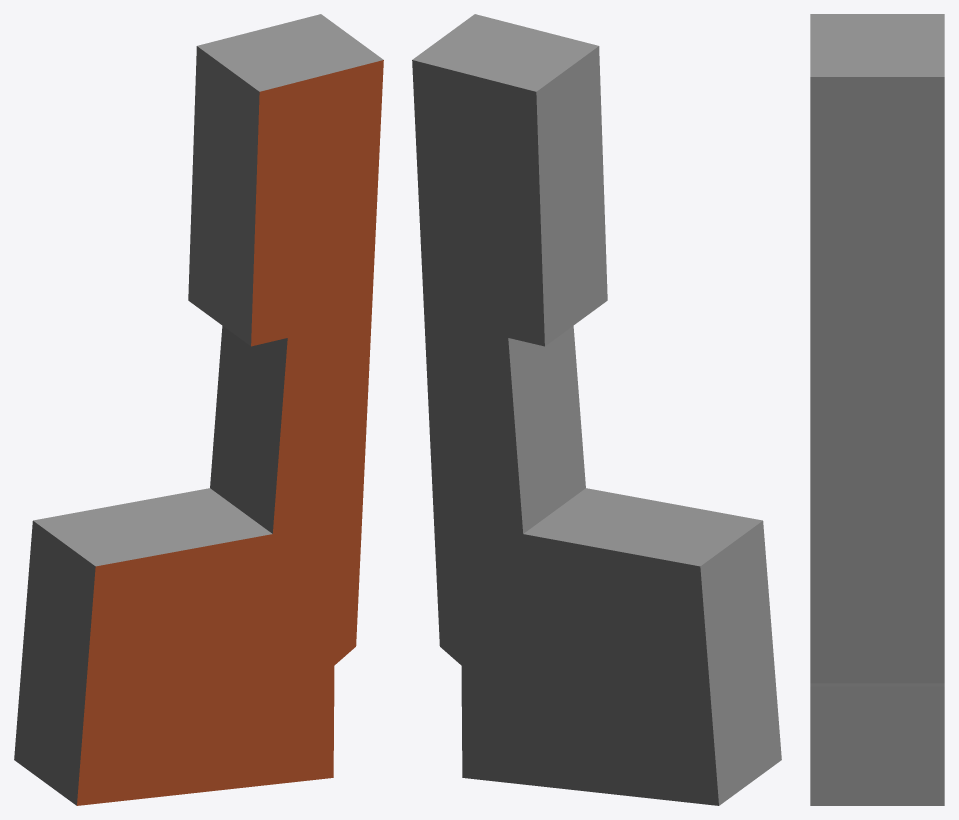
File: construction_5475_assumed_A_Casa_h6m.obj
3 views of the same model, side by side, from view 1: azimuth 30°, elevation 25°; view 2: azimuth 150°, elevation 25°; view 3: azimuth 270°, elevation 25° (orthographic). The views are drawn at different scales.
Visible parts, largest first — view 1: construction_5475_assumed_A_Casa; view 2: construction_5475_assumed_A_Casa; view 3: construction_5475_assumed_A_Casa.
Part boxes in pixels (bbox=[...]): construction_5475_assumed_A_Casa: bbox=[14, 14, 383, 805]; construction_5475_assumed_A_Casa: bbox=[412, 14, 781, 805]; construction_5475_assumed_A_Casa: bbox=[810, 14, 944, 805].
Bounding box in the file's own units: 16.94 × 37.21 × 6.
